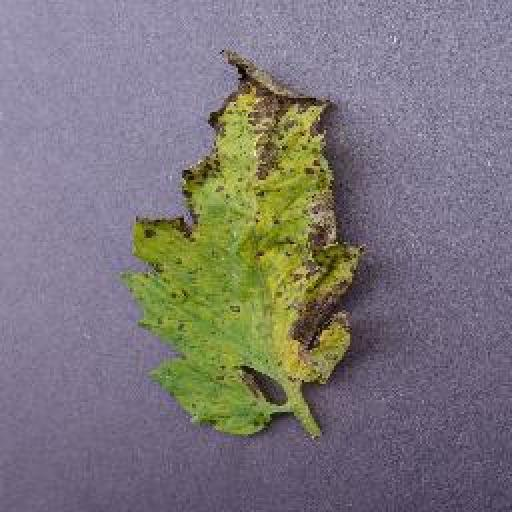Septoria: (134, 51, 359, 440)
